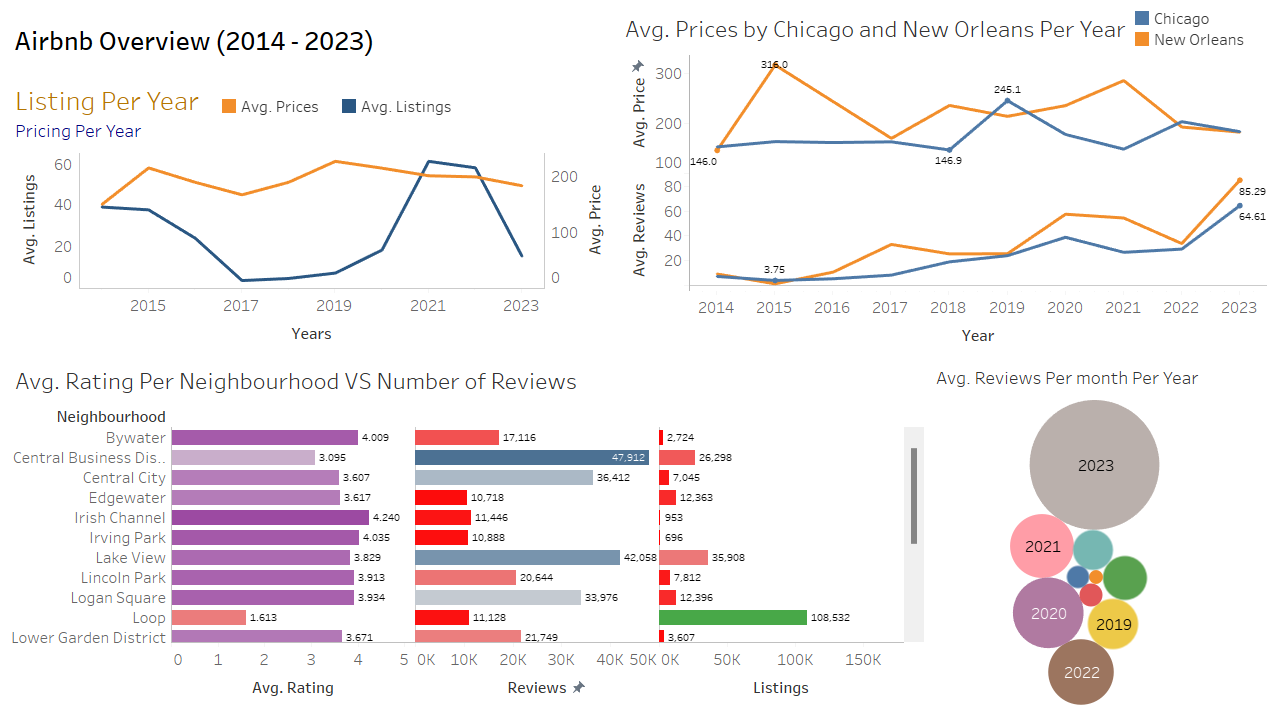

The page's visual inventory and layout, read from the dashboard file:
{"tool":"tableau","page":{"name":"Overview","canvas":[1280,720],"ordinal":1},"visuals":[{"type":"text","box":[8,8,610,70.3]},{"type":"worksheet","title":"Sheet 2","mark":"Automatic","rows":["price","number_of_reviews"],"cols":["last_review_date"],"box":[618,8,654,351.6]},{"type":"legend","title":"Sheet 1","param":"[federated.1bagulx0n16w2q15jvgsx08n5s2x].[:Measure Names]","box":[220,77,338,64]},{"type":"worksheet","title":"Sheet 1","mark":"Automatic","rows":["Listings","price"],"cols":["last_review_date"],"box":[8,78.3,610,281.3]},{"type":"worksheet","title":"Sheet 4","mark":"Automatic","rows":["neighbourhood"],"cols":["rating","number_of_reviews","Listings"],"box":[8,359.6,921.2,352.4]},{"type":"worksheet","title":"Sheet 3","mark":"Circle","box":[929.2,359.6,342.8,352.4]}]}

Visuals, with their boxes in screenshot pixels (x1, y1, x2, y2), scaled from the page's 1280x720 canvas onto the 1274x710 screenshot:
text: locate(8, 8, 615, 77)
"Sheet 2" worksheet: locate(615, 8, 1266, 355)
"Sheet 1" legend: locate(219, 76, 555, 139)
"Sheet 1" worksheet: locate(8, 77, 615, 355)
"Sheet 4" worksheet: locate(8, 355, 925, 702)
"Sheet 3" worksheet (Circle marks): locate(925, 355, 1266, 702)
